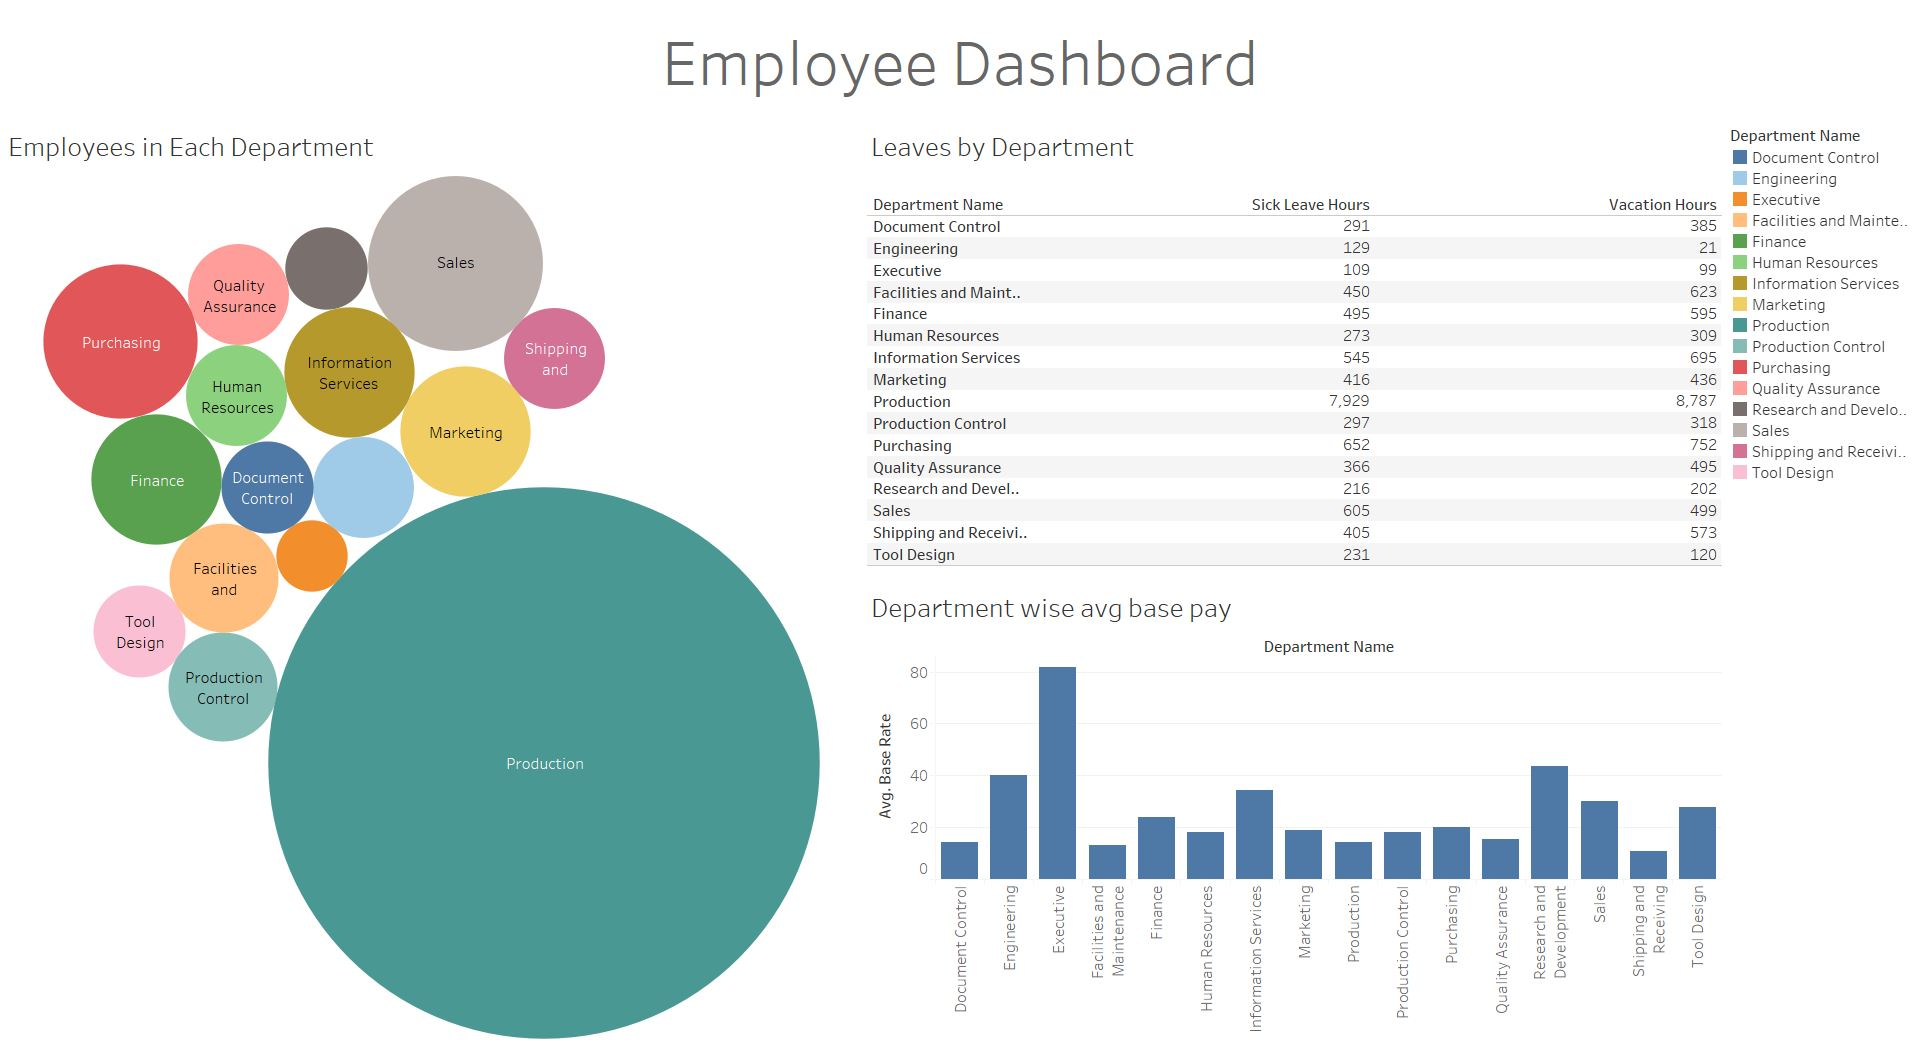

Layout of this report page (visuals, bound fields, positions):
{"tool":"tableau","page":{"name":"Employee Dashboard","canvas":[1000,1000],"units":"permille","ordinal":0},"visuals":[{"type":"worksheet","box":[0,0,1000,1000]},{"type":"worksheet","box":[0,0,1000,116.4]},{"type":"worksheet","param":"horz","box":[0,116.4,899,883.6]},{"type":"worksheet","box":[0,116.4,899,883.6]},{"type":"worksheet","title":"Sheet 18","mark":"Circle","box":[0,116.4,449.5,883.6]},{"type":"worksheet","title":"Sheet 17","mark":"Automatic","rows":["DepartmentName"],"box":[449.5,116.4,449.5,441.8]},{"type":"worksheet","box":[899,116.4,101,883.6]},{"type":"worksheet","title":"Sheet 18","mark":"Circle","param":"[federated.11naqht070xfxh17nojjf1wm6ggw].[none:DepartmentName:nk]","box":[899,116.4,101,401.8]},{"type":"worksheet","title":"Department wise avg base pay","mark":"Automatic","rows":["BaseRate"],"cols":["DepartmentName"],"box":[449.5,558.2,449.5,441.8]}]}

Visuals, with their boxes on the dashboard's canvas, which has no fixed pixel size, in thousandths of its width and height (x1, y1, x2, y2). These are canvas units, not pixel positions in the 1918x1043 screenshot, which may show the page scaled, cropped or inside an application window:
worksheet: 0, 0, 1000, 1000
worksheet: 0, 0, 1000, 116
worksheet: 0, 116, 899, 1000
worksheet: 0, 116, 899, 1000
"Sheet 18" worksheet (Circle marks): 0, 116, 450, 1000
"Sheet 17" worksheet: 450, 116, 899, 558
worksheet: 899, 116, 1000, 1000
"Sheet 18" worksheet (Circle marks): 899, 116, 1000, 518
"Department wise avg base pay" worksheet: 450, 558, 899, 1000
